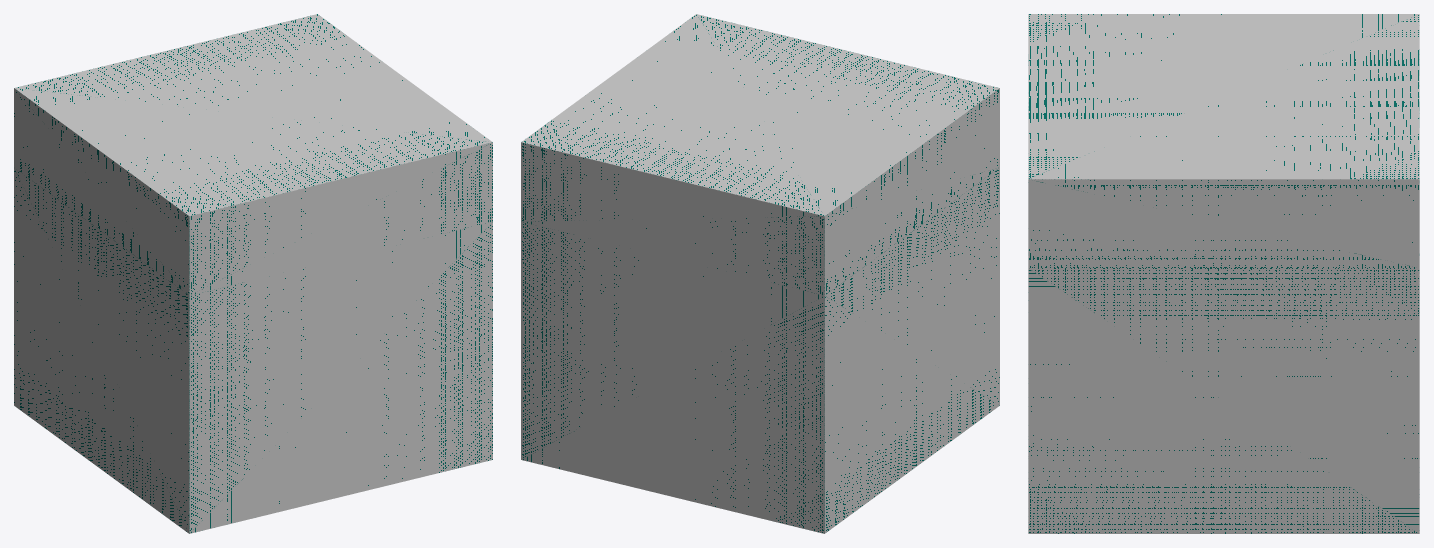
File: corrupted-dirt-block-with-grass.fbx
The picture shows the model from 3 angles, left to right: view 1: azimuth 30°, elevation 25°; view 2: azimuth 150°, elevation 25°; view 3: azimuth 270°, elevation 25°; orthographic projection. The views are drawn at different scales.
Visible parts, largest first — view 1: generated; view 2: generated; view 3: generated.
Boxes of the visible parts, bbox=[...] form: generated: bbox=[14, 14, 492, 533]; generated: bbox=[521, 14, 999, 533]; generated: bbox=[1028, 14, 1419, 533].
Bounding box in the file's own units: 80 × 80 × 80.
1 material, 1 textured.
